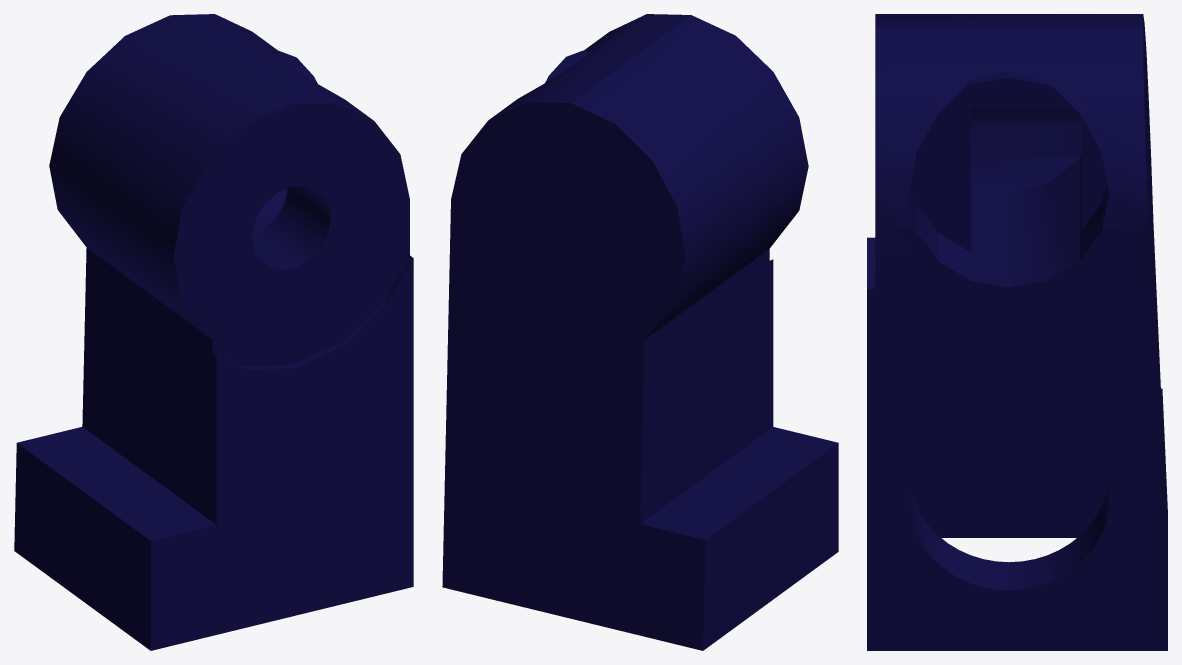
Rendered from right_leg_dark_purple.obj.
The picture shows the model from 3 angles, left to right: view 1: azimuth 30°, elevation 25°; view 2: azimuth 150°, elevation 25°; view 3: azimuth 270°, elevation 25°; orthographic projection. The views are drawn at different scales.
Bounding box in the file's own units: 20 × 37 × 18.
